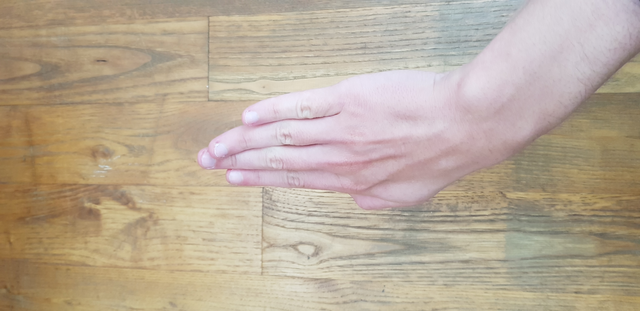Paper: (154, 65, 515, 232)
